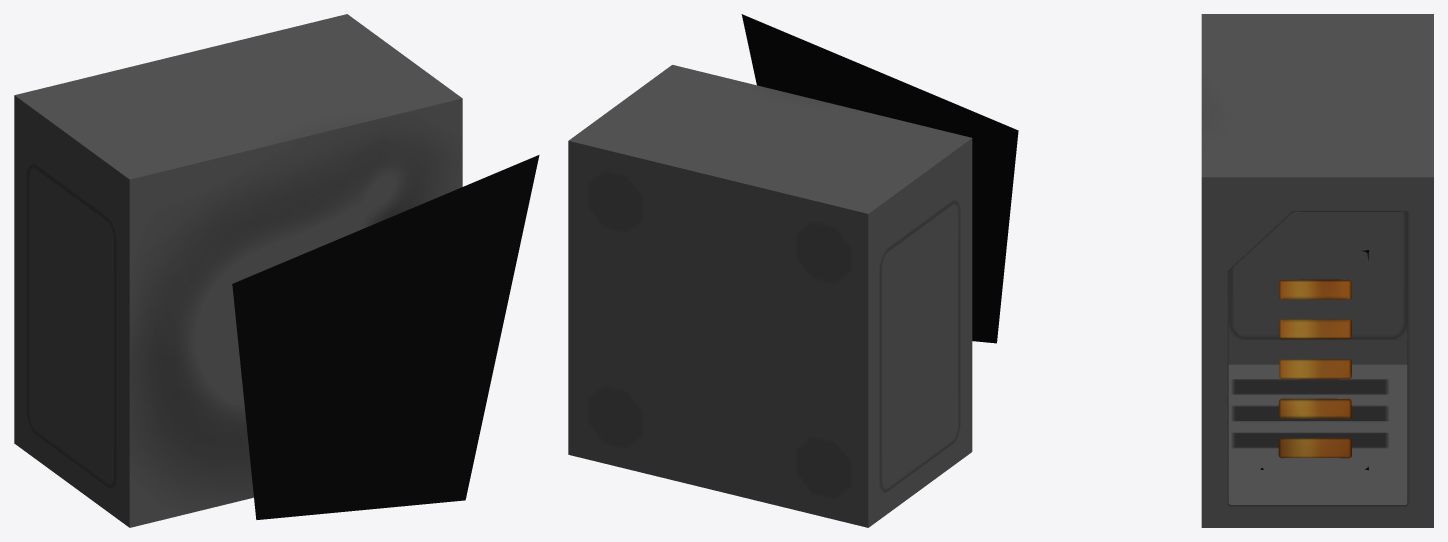
File: obj_interactive_sensor_lod1.fbx
3 views of the same model, side by side, from view 1: azimuth 30°, elevation 25°; view 2: azimuth 150°, elevation 25°; view 3: azimuth 270°, elevation 25° (orthographic). The views are drawn at different scales.
Visible parts, largest first — view 1: obj_interactive_sensor_lod1; view 2: obj_interactive_sensor_lod1; view 3: obj_interactive_sensor_lod1.
Boxes of the visible parts, box(x1,y1,x2,y2) form: obj_interactive_sensor_lod1: box(14, 14, 539, 527); obj_interactive_sensor_lod1: box(568, 14, 1018, 527); obj_interactive_sensor_lod1: box(1201, 14, 1433, 527).
Size of the model in its own units: 1 by 1 by 1.
